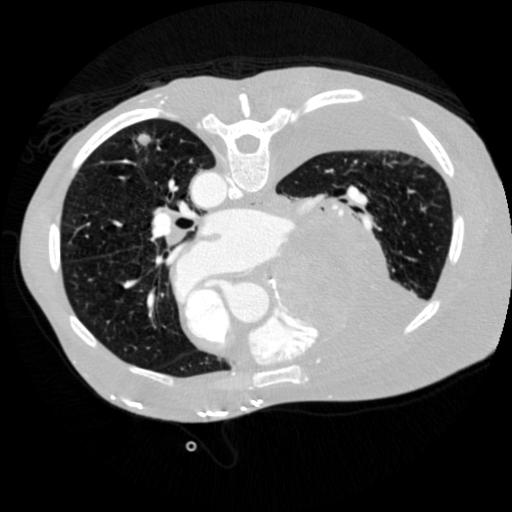nodule: (136, 131, 154, 149)
